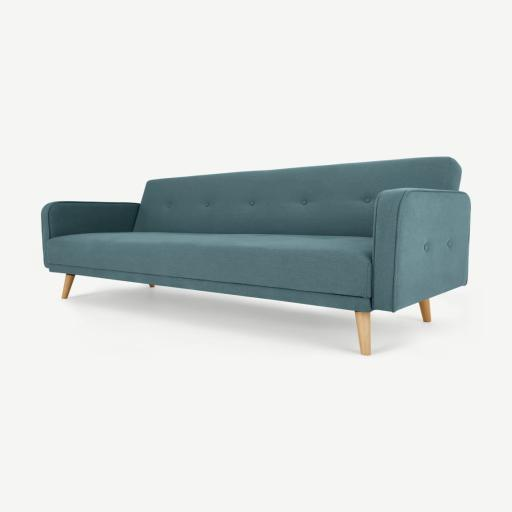back_cushion: (134, 157, 461, 235)
left_arm: (372, 188, 470, 321)
legs: (356, 311, 371, 355), (61, 274, 74, 298), (420, 300, 430, 322)
right_arm: (42, 201, 139, 267)
seat_cushion: (47, 232, 371, 298)
two-seater: (0, 0, 511, 512)
